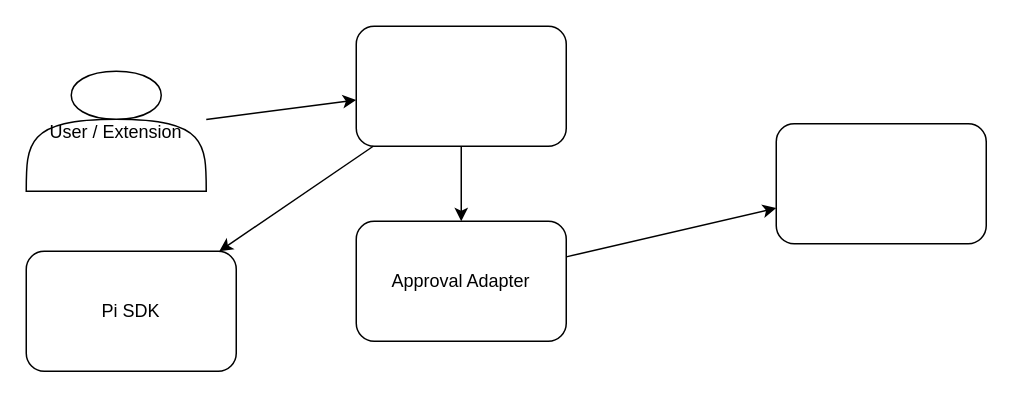
This 1013x398 diagram has some shape labels left out. The shapes that lost their labels are listed below. From the top down, each one's centre as x and y in pixels, then its label:
the point at 460,85: PiAgent Executor
the point at 880,183: ToolApprovalGate
